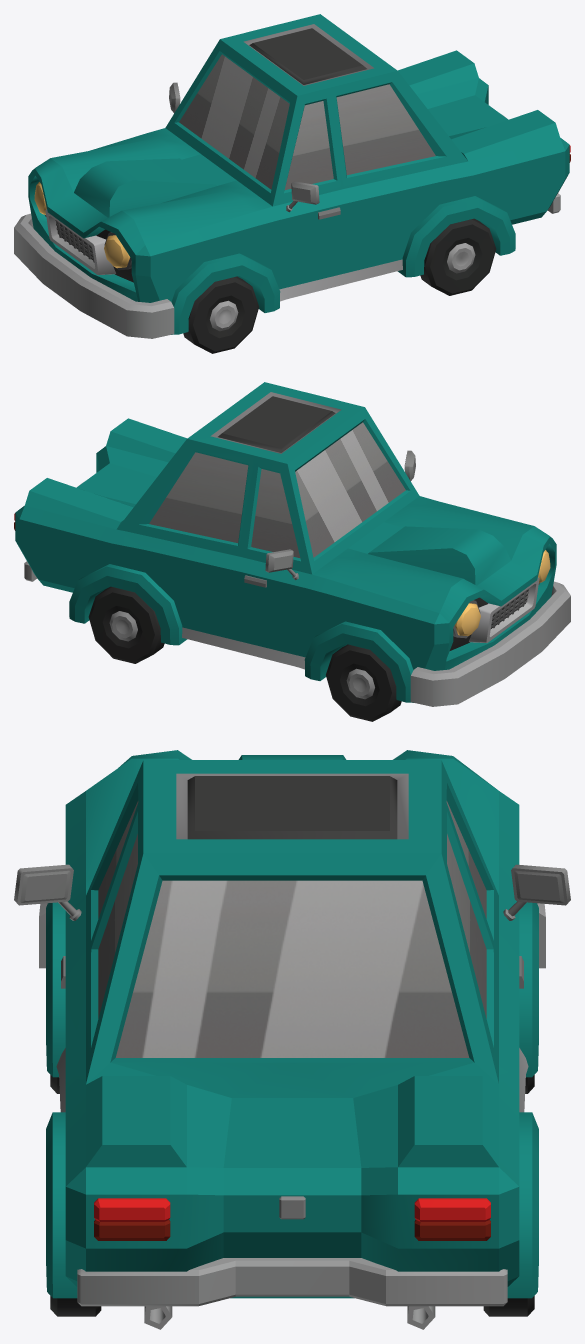
Rendered from Car_17_D.gltf.
3 renders of one model, top to bottom at view 1: azimuth 30°, elevation 25°; view 2: azimuth 150°, elevation 25°; view 3: azimuth 270°, elevation 25°, orthographic. The views are drawn at different scales.
Visible parts, largest first — view 1: Car_17_D, RL, FL; view 2: Car_17_D, RR, FR; view 3: Car_17_D, RL, RR.
Part boxes in pixels (box(x1,y1,x2,y2)): Car_17_D: box(14, 14, 570, 338); RL: box(420, 218, 496, 295); FL: box(183, 276, 258, 353); Car_17_D: box(14, 382, 570, 706); RR: box(88, 586, 164, 663); FR: box(326, 644, 401, 721); Car_17_D: box(14, 750, 570, 1329); RL: box(50, 1296, 101, 1316); RR: box(483, 1296, 534, 1316).
Size of the model in its own units: 3.39 by 1.53 by 1.85.
4 materials, 4 textured.
